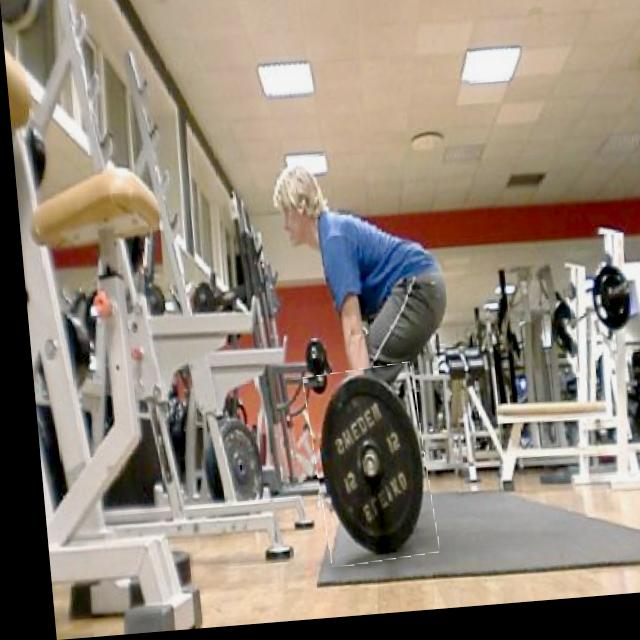barbell: (298, 371, 426, 572)
